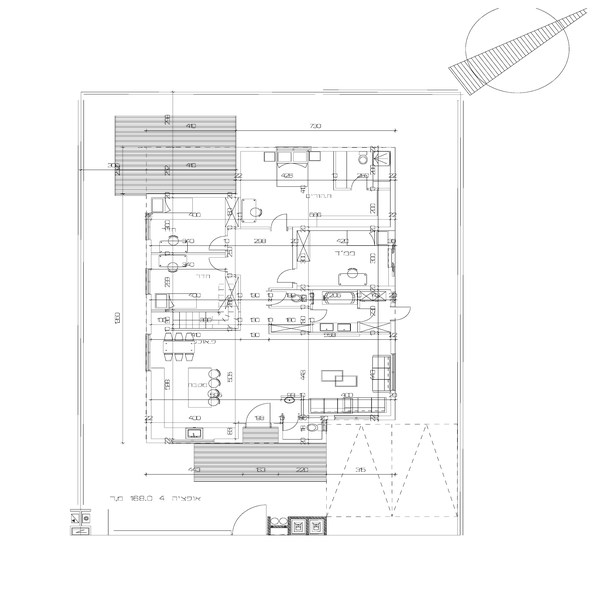door: (225, 492, 265, 533), (240, 398, 273, 429), (206, 230, 229, 273), (277, 410, 306, 434), (262, 284, 287, 311), (273, 262, 302, 285), (269, 208, 291, 234), (392, 304, 417, 325), (308, 304, 331, 325), (358, 304, 378, 328)
